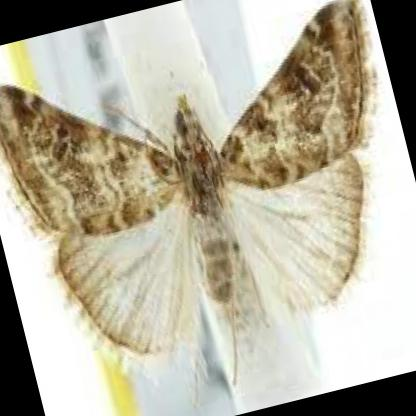Hellula undalis: (0, 0, 381, 403)
